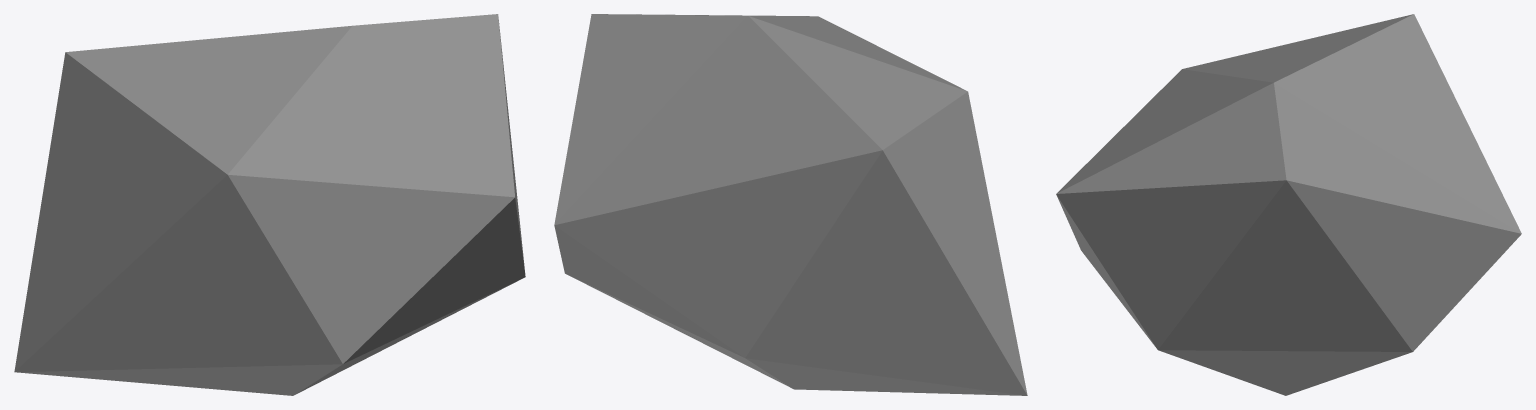
File: rock1.glb
The picture shows the model from 3 angles, left to right: view 1: azimuth 30°, elevation 25°; view 2: azimuth 150°, elevation 25°; view 3: azimuth 270°, elevation 25°; orthographic projection. The views are drawn at different scales.
Parts seen in each view (by area): view 1: Icosphere; view 2: Icosphere; view 3: Icosphere.
Part boxes in pixels (bbox=[...]): Icosphere: bbox=[14, 14, 525, 395]; Icosphere: bbox=[554, 14, 1027, 395]; Icosphere: bbox=[1056, 14, 1521, 395].
Size of the model in its own units: 2.07 by 1.55 by 1.94.
Materials: 1 (1 with a texture image).
